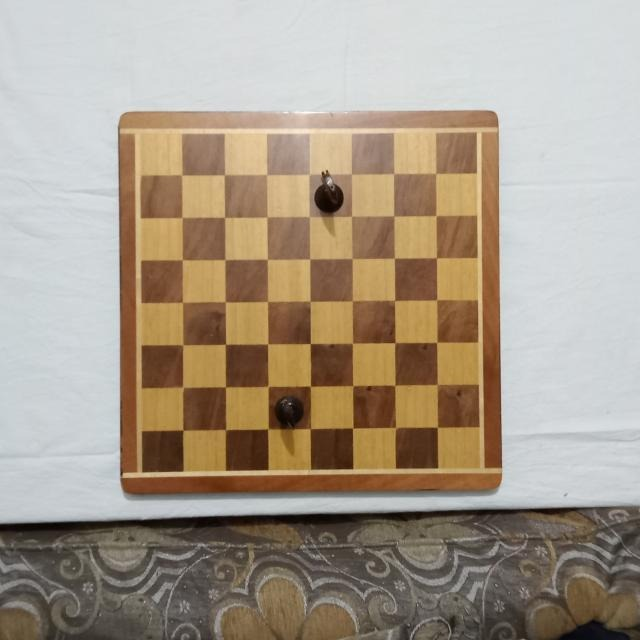black-knight: (311, 165, 344, 214), (274, 393, 307, 428)
